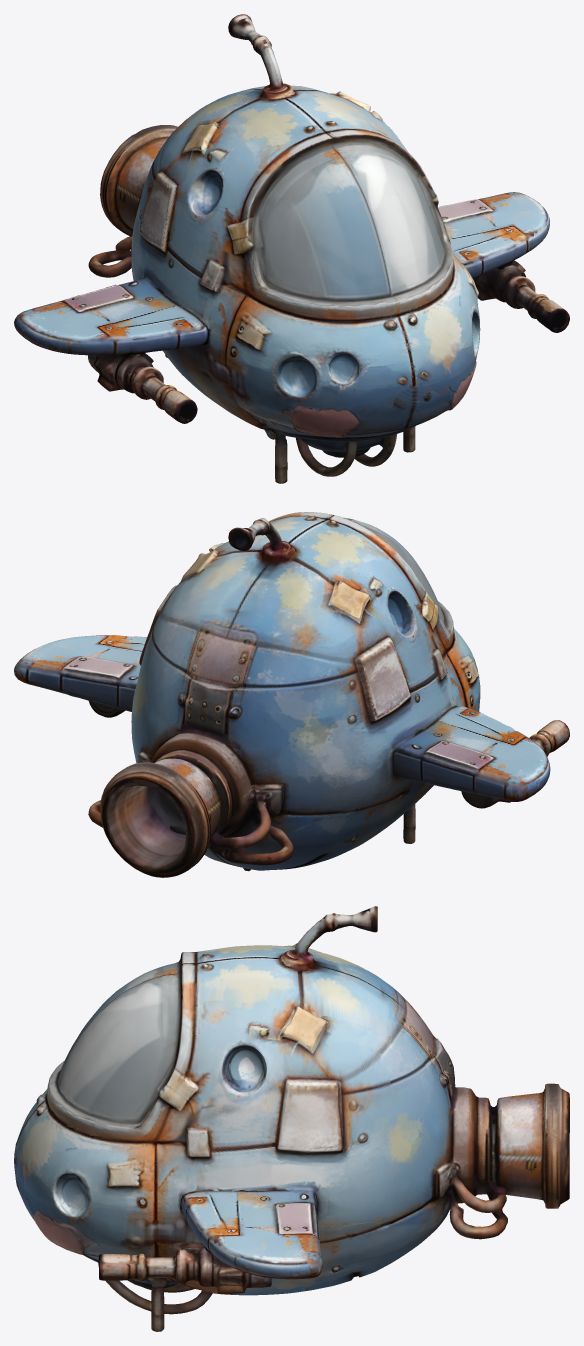
File: admin-hoverpod.glb
The picture shows the model from 3 angles, top to bottom: view 1: azimuth 30°, elevation 25°; view 2: azimuth 150°, elevation 25°; view 3: azimuth 270°, elevation 25°; orthographic projection. The views are drawn at different scales.
Parts seen in each view (by area): view 1: input; view 2: input; view 3: input.
Part boxes in pixels (left/top/right/bottom): input: left=14, top=14, right=569, bottom=483; input: left=14, top=512, right=569, bottom=877; input: left=14, top=906, right=569, bottom=1331.
Bounding box in the file's own units: 2 × 1.41 × 1.79.
1 material, 1 textured.
